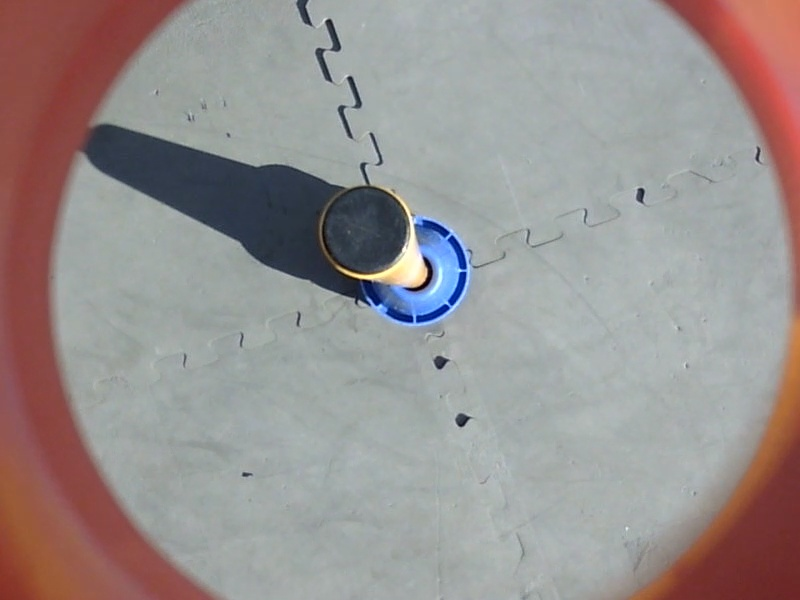tip: (313, 181, 418, 282)
